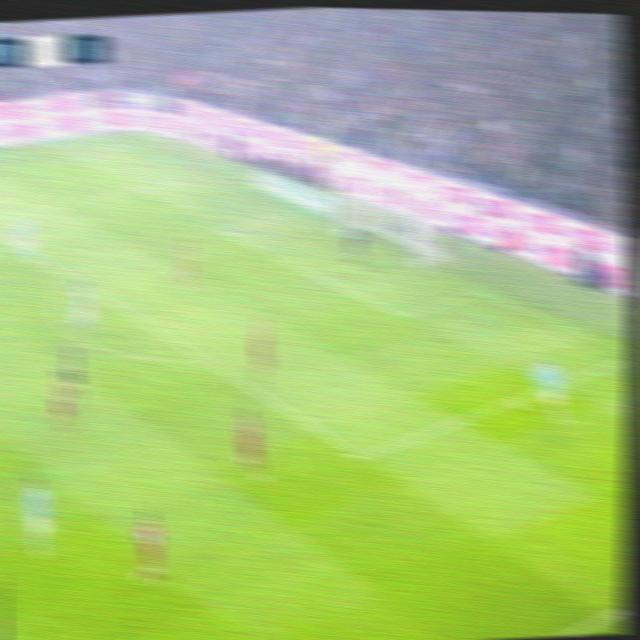bigarea_bottom_inner: (344, 440, 377, 470)
bigarea_bottom_outter: (621, 340, 634, 365)
bigarea_top_outter: (190, 163, 214, 181)
bottom_arc_area_intersection: (191, 348, 217, 369)
corner: (95, 127, 122, 140)
smallarea_bottom_inner: (386, 300, 416, 328)
smallarea_bottom_outter: (462, 279, 492, 301)
smallarea_top_inner: (207, 219, 233, 240)
smallarea_top_outter: (277, 202, 302, 220)
top_arc_area_intersection: (62, 268, 85, 287)
